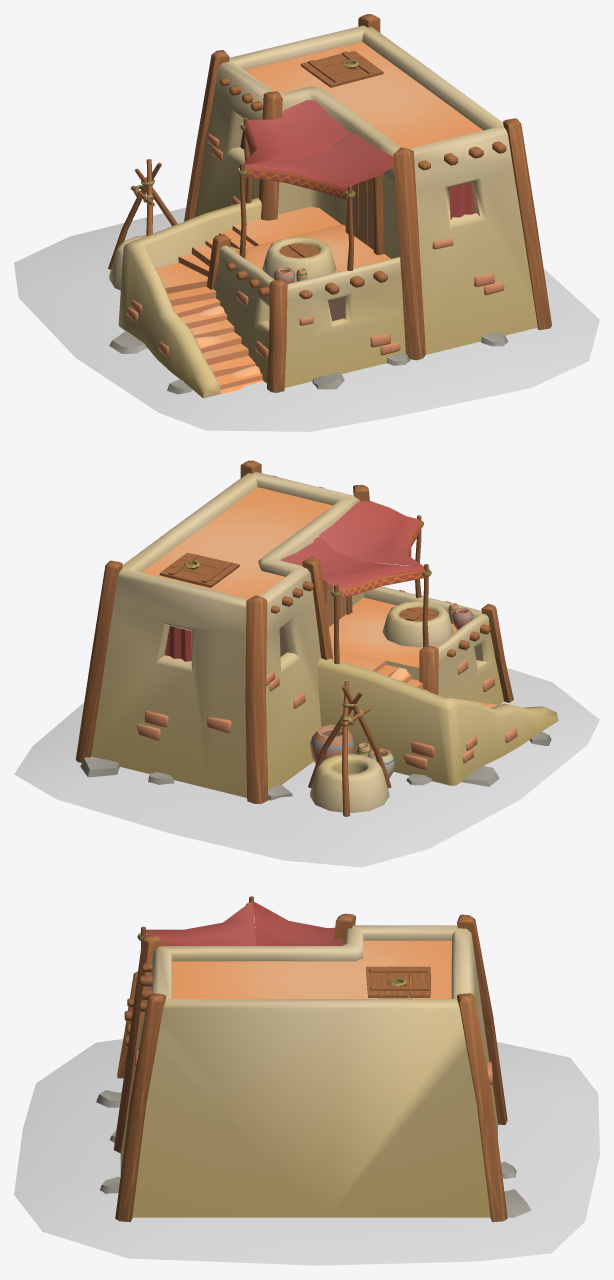
Rendered from Desert PlayerHouse.fbx.
3 views of the same model, one above another, from view 1: azimuth 30°, elevation 25°; view 2: azimuth 150°, elevation 25°; view 3: azimuth 270°, elevation 25° (orthographic). The views are drawn at different scales.
Parts seen in each view (by area): view 1: Desert PlayerHouse; view 2: Desert PlayerHouse; view 3: Desert PlayerHouse.
Part boxes in pixels (x1,y1,x2,y2): Desert PlayerHouse: (14, 14, 599, 431); Desert PlayerHouse: (14, 460, 599, 867); Desert PlayerHouse: (14, 896, 599, 1265).
Bounding box in the file's own units: 3.9 × 1.74 × 4.11.
